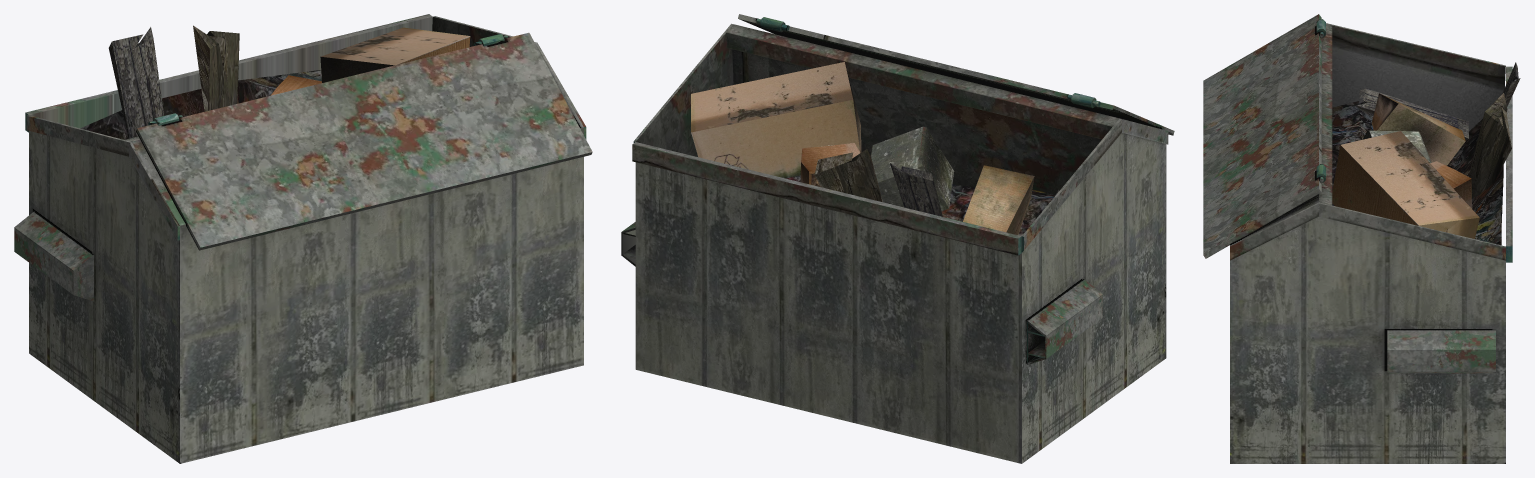
File: kontejner_odpad.glb
The picture shows the model from 3 angles, left to right: view 1: azimuth 30°, elevation 25°; view 2: azimuth 150°, elevation 25°; view 3: azimuth 270°, elevation 25°; orthographic projection. The views are drawn at different scales.
Parts seen in each view (by area): view 1: Cube, Cube.001, Cube.003, Cube.002, Plane; view 2: Cube, Cube.001, Cube.002, Cube.003, Plane; view 3: Cube, Cube.001, Plane, Cube.002, Cube.004, Cube.003.
Boxes of the visible parts, bbox=[...] form: Cube: bbox=[14, 14, 592, 463]; Cube.001: bbox=[270, 27, 470, 95]; Cube.003: bbox=[108, 27, 163, 138]; Cube.002: bbox=[193, 25, 239, 111]; Plane: bbox=[80, 70, 321, 139]; Cube: bbox=[621, 14, 1174, 463]; Cube.001: bbox=[691, 62, 1034, 234]; Cube.002: bbox=[814, 149, 882, 202]; Cube.003: bbox=[890, 163, 942, 216]; Plane: bbox=[786, 175, 1054, 235]; Cube: bbox=[1203, 14, 1512, 463]; Cube.001: bbox=[1332, 93, 1479, 238]; Plane: bbox=[1332, 101, 1503, 245]; Cube.002: bbox=[1468, 93, 1511, 198]; Cube.004: bbox=[1355, 88, 1468, 138]; Cube.003: bbox=[1502, 62, 1520, 106].
Size of the model in its own units: 2 by 1.3 by 1.35.
5 materials, 5 textured.
